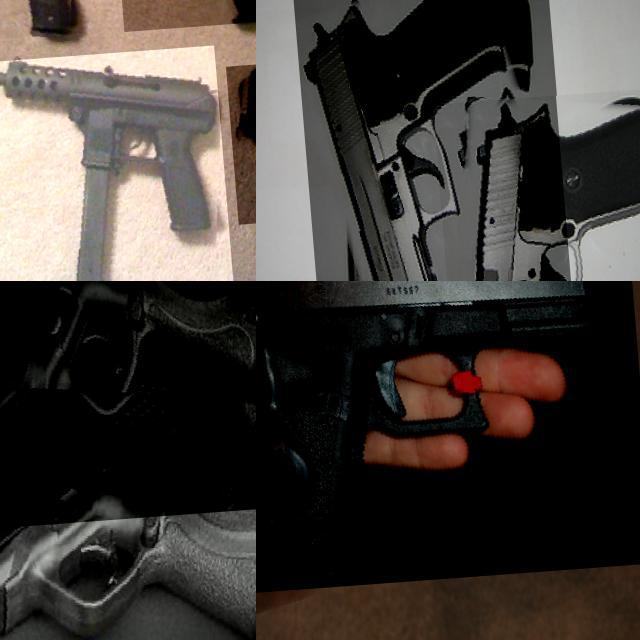gun-knife-thesis - v11 Yolov5 augmented: (256, 281, 640, 599), (291, 0, 569, 281), (0, 373, 256, 640), (0, 281, 256, 539), (0, 51, 224, 281), (429, 96, 640, 281), (0, 0, 177, 81), (0, 62, 81, 224), (109, 0, 256, 75), (219, 64, 256, 231), (0, 0, 79, 77)
